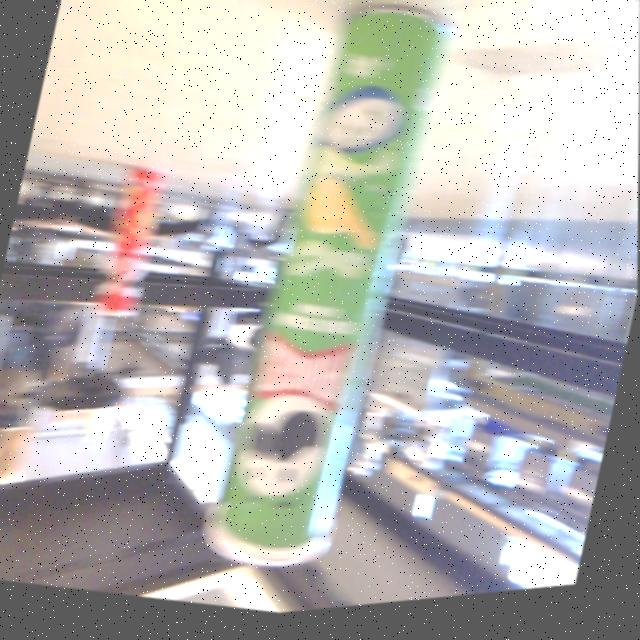greenpringles: (195, 0, 461, 610)
redpringles: (78, 162, 174, 344)
